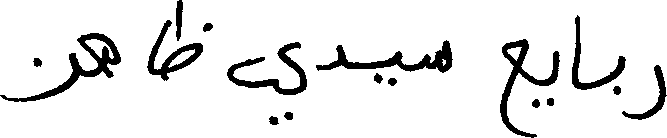ا: (144, 18, 164, 81), (570, 13, 581, 90)
ب: (613, 53, 624, 116)
د: (315, 43, 345, 72)
ر: (0, 35, 78, 101), (623, 54, 666, 120)
س: (421, 37, 451, 73)
ظ: (163, 0, 217, 81)
ع: (500, 37, 527, 137)
ه: (75, 30, 119, 80)
ي: (227, 39, 306, 124), (525, 48, 559, 106), (368, 49, 402, 86)
